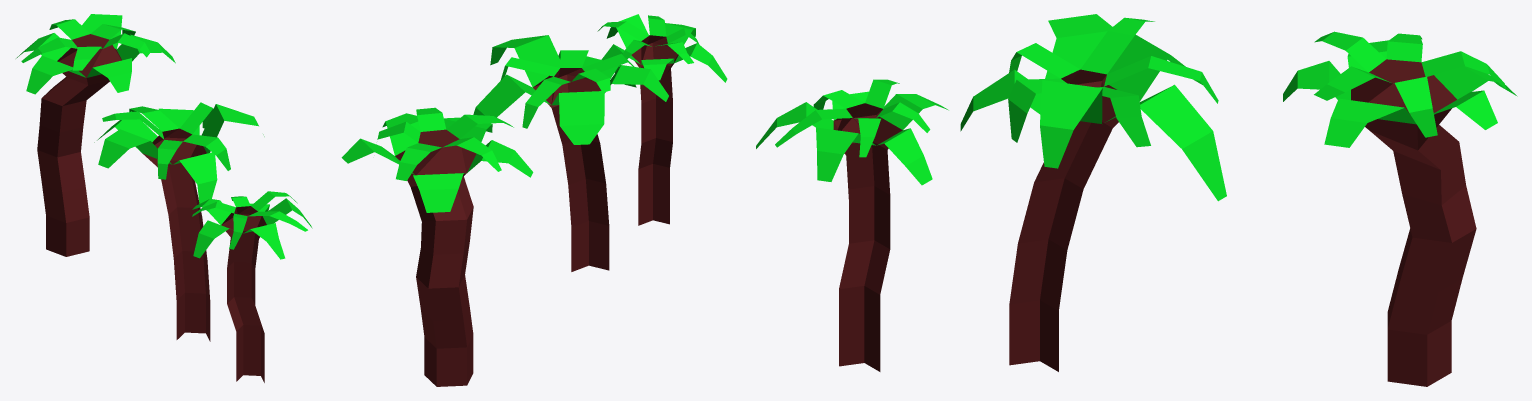
The model's file is palmTrees.fbx.
The picture shows the model from 3 angles, left to right: view 1: azimuth 30°, elevation 25°; view 2: azimuth 150°, elevation 25°; view 3: azimuth 270°, elevation 25°; orthographic projection. The views are drawn at different scales.
Parts seen in each view (by area): view 1: Tree 3, Tree, Tree 2; view 2: Tree 3, Tree, Tree 2; view 3: Tree, Tree 3, Tree 2.
Part boxes in pixels (box(x1,y1,x2,y2)): Tree 3: box(16, 14, 175, 256); Tree: box(94, 102, 264, 341); Tree 2: box(192, 191, 312, 382); Tree 3: box(341, 107, 533, 386); Tree: box(473, 35, 668, 271); Tree 2: box(597, 14, 727, 225); Tree: box(960, 14, 1226, 371); Tree 3: box(1283, 31, 1517, 386); Tree 2: box(756, 79, 948, 371).
Bounding box in the file's own units: 1397 × 1756 × 3680.
